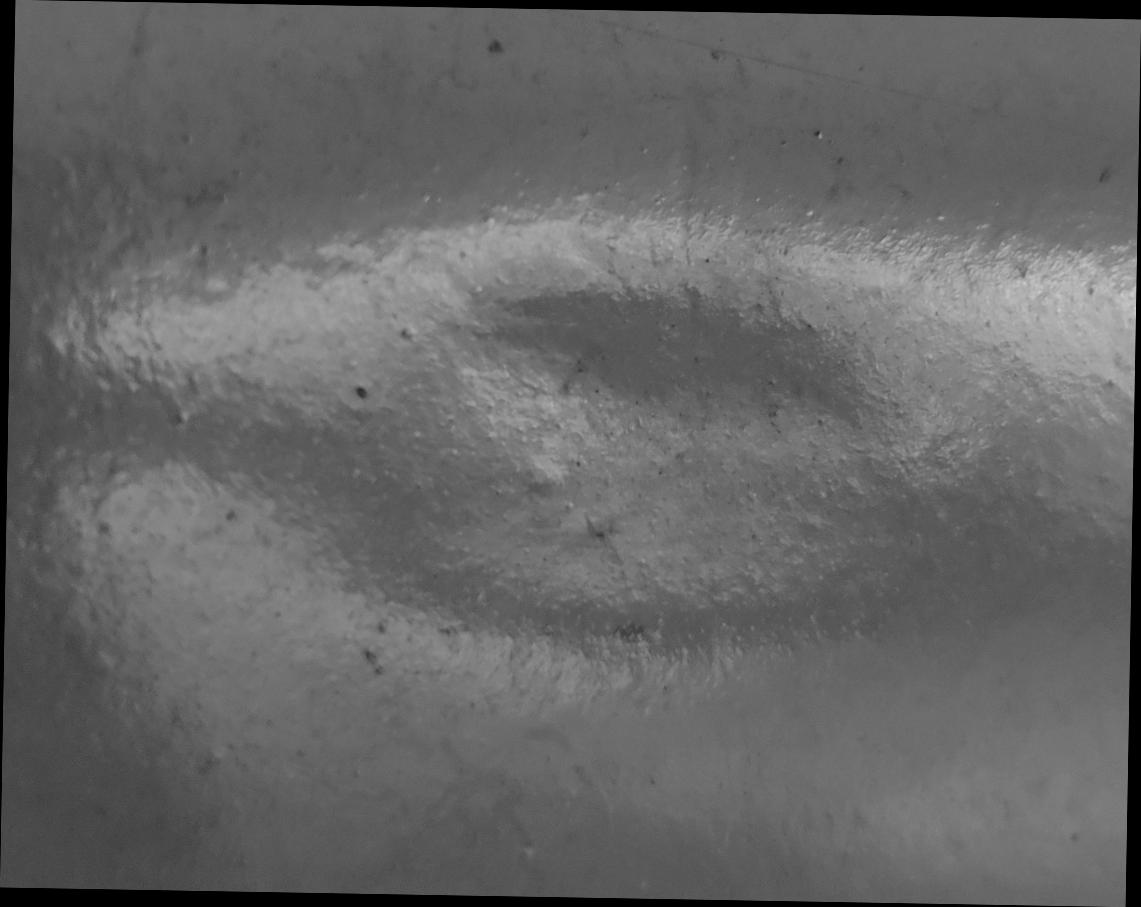dent: (0, 1, 1140, 907)
